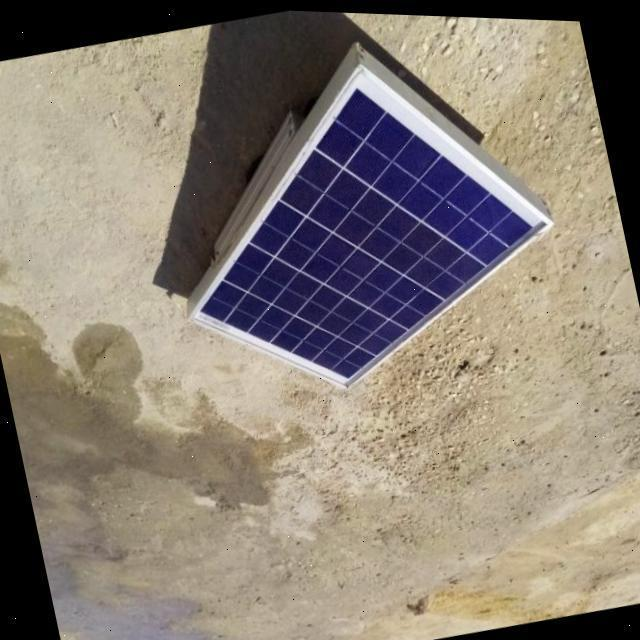Normal Solar Panel: (144, 22, 574, 424)
